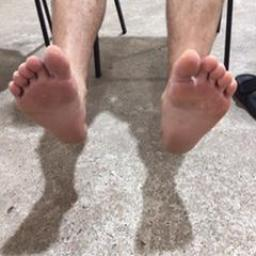Plantar View -Both Feet-: (4, 32, 239, 167)
